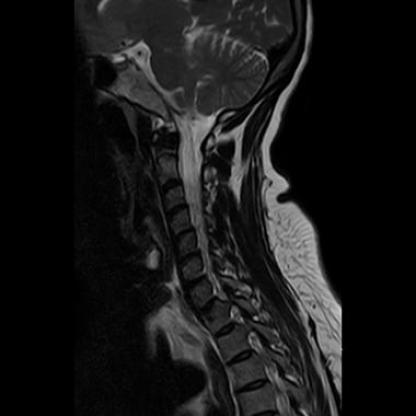Disc Bulgerotation: (163, 202, 191, 219), (168, 228, 196, 244), (177, 253, 204, 269), (184, 277, 209, 292), (157, 177, 183, 191)
Disc Herniationrotation: (195, 301, 220, 318)
